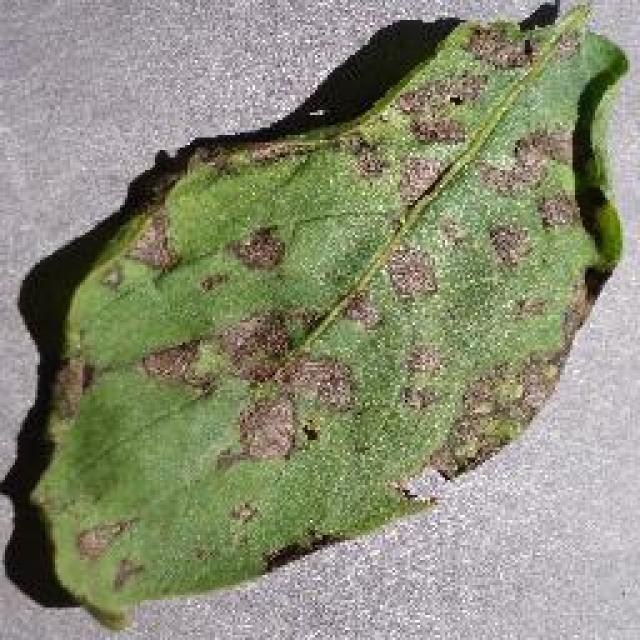Potato___Early_blight: (25, 1, 633, 633)
